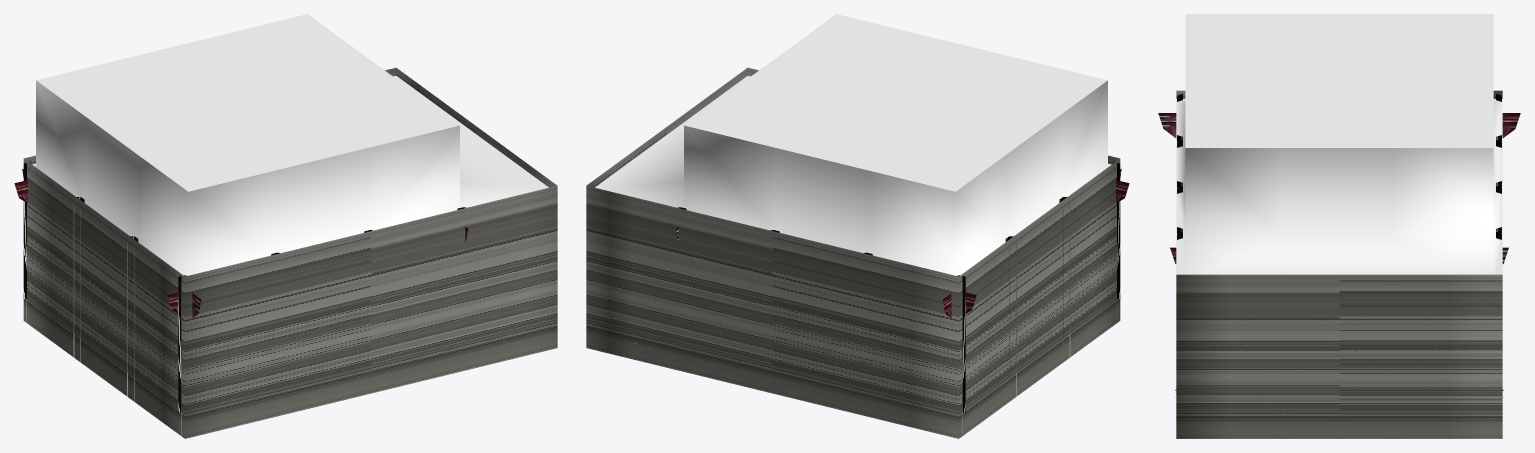
Rendered from Give me Food.x.obj.
3 renders of one model, left to right at view 1: azimuth 30°, elevation 25°; view 2: azimuth 150°, elevation 25°; view 3: azimuth 270°, elevation 25°, orthographic.
Parts seen in each view (by area): view 1: obj1; view 2: obj1; view 3: obj1.
Boxes of the visible parts, bbox=[...] form: obj1: bbox=[14, 14, 557, 438]; obj1: bbox=[586, 14, 1129, 438]; obj1: bbox=[1158, 14, 1520, 438].
Bounding box in the file's own units: 82.92 × 49.67 × 66.67.
Materials: 22 (13 with a texture image).
